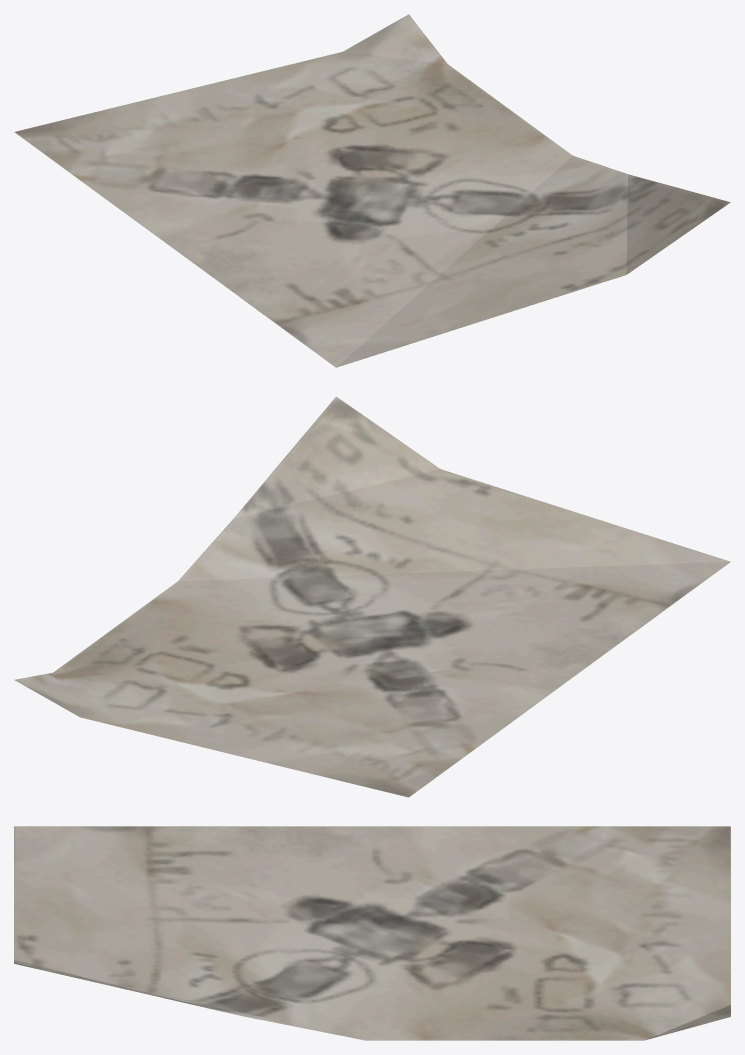
Rendered from feuillesattelite.glb.
3 views of the same model, one above another, from view 1: azimuth 30°, elevation 25°; view 2: azimuth 150°, elevation 25°; view 3: azimuth 270°, elevation 25° (orthographic). The views are drawn at different scales.
Parts seen in each view (by area): view 1: Plane; view 2: Plane; view 3: Plane.
Boxes of the visible parts, x1=… form: Plane: x1=14, y1=14, x2=730, y2=367; Plane: x1=14, y1=396, x2=730, y2=797; Plane: x1=14, y1=826, x2=730, y2=1040.
Bounding box in the file's own units: 0.423 × 0.0708 × 0.5977.
1 material, 1 textured.
